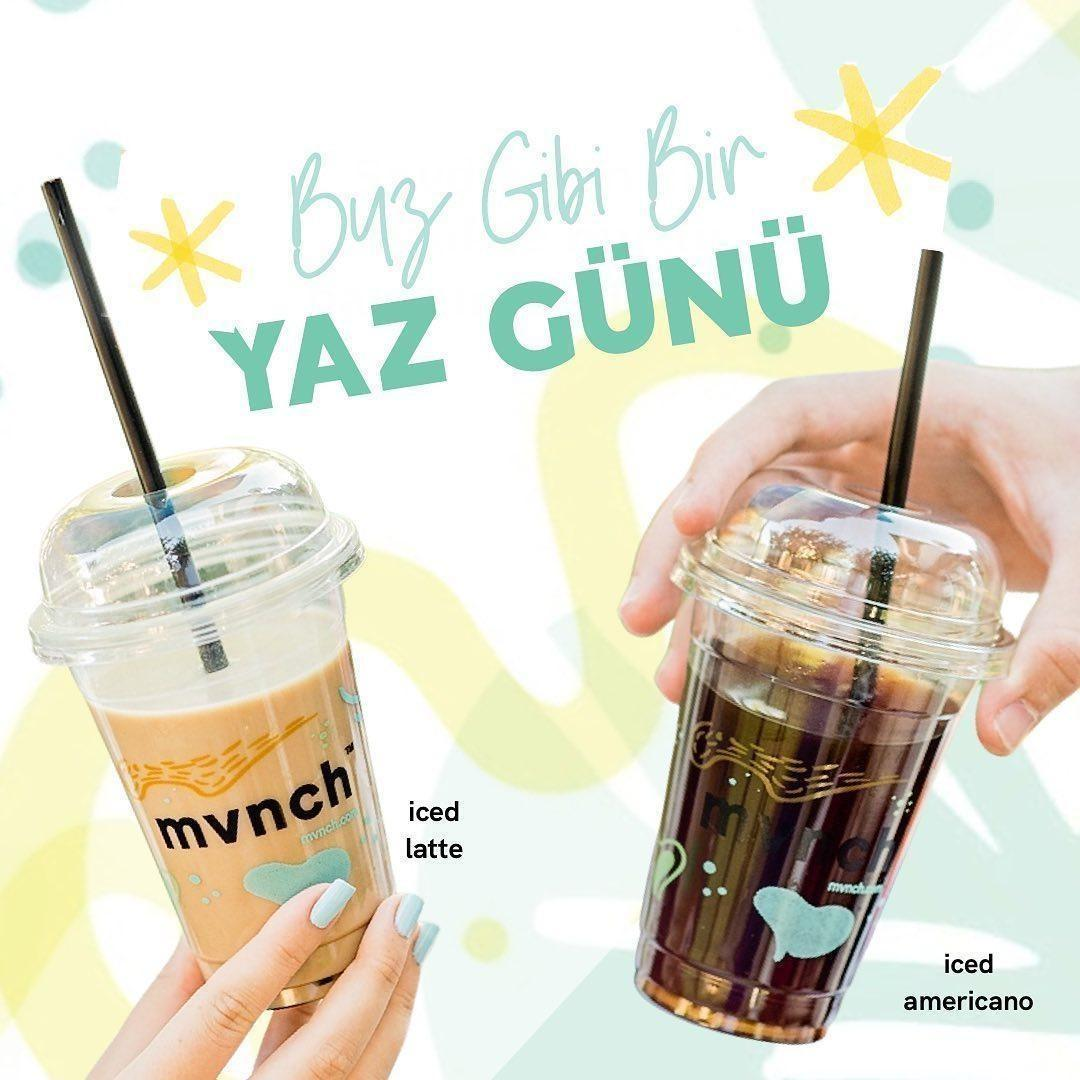cup-disposable: (626, 456, 1035, 1057), (19, 438, 416, 1017)
